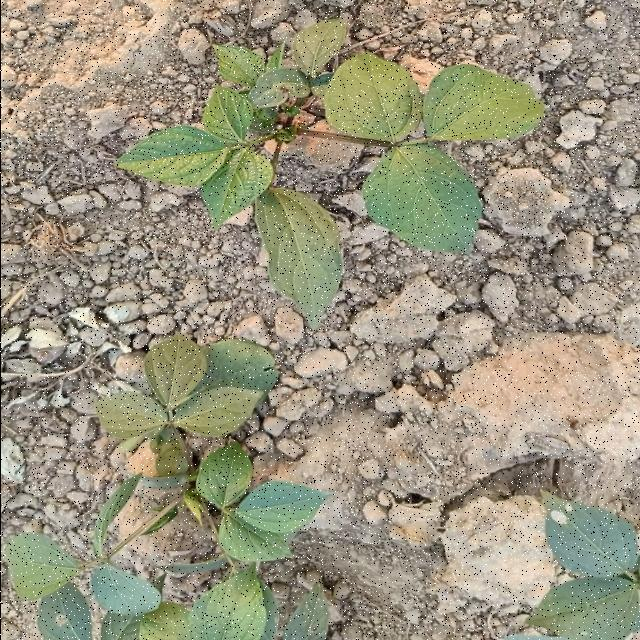plant: (116, 20, 542, 328), (4, 335, 329, 640), (509, 495, 638, 640)
